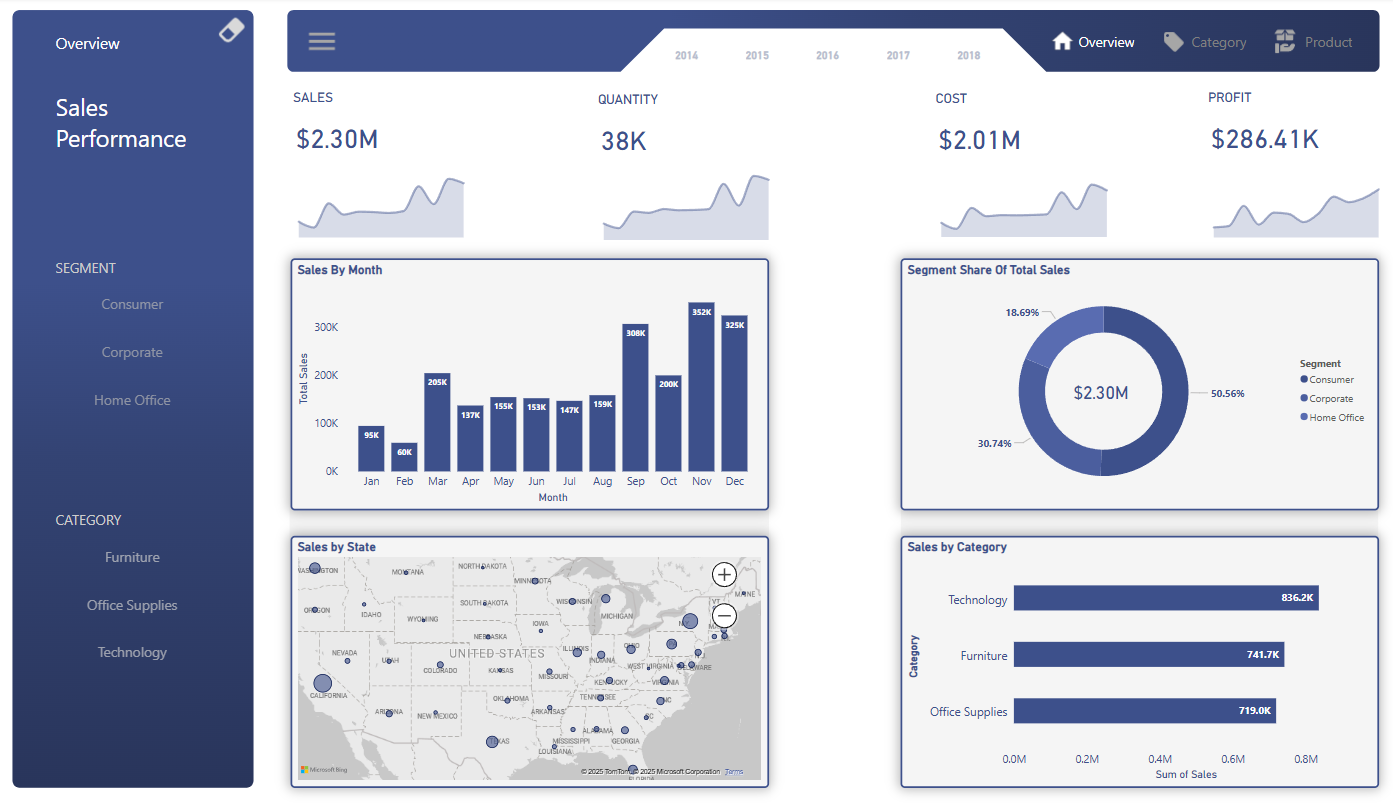

What the dashboard file says about the page in this screenshot:
{"tool":"powerbi","page":{"name":"Overview","canvas":[1900,1100],"ordinal":0},"visuals":[{"type":"shape","box":[1227.2,355.6,650.7,721.5],"z":0},{"type":"shape","box":[396.3,355.4,653.1,721.1],"z":1000},{"type":"cardVisual","title":"QUANTITY","fields":{"Data":["Sum(Order_Data.Quantity)"]},"box":[810.9,129,237.8,103],"z":2000},{"type":"cardVisual","title":"SALES","fields":{"Data":["Sum(Order_Data.Sales)"]},"box":[396.3,125.3,237.8,103.2],"z":3000},{"type":"listSlicer","title":"SEGMENT","fields":{"Values":["Order_Data.Segment"]},"box":[73.7,355.7,219.3,226.7],"z":4000},{"type":"listSlicer","title":"CATEGORY","fields":{"Values":["Order_Data.Category"]},"box":[73.7,698.6,219.3,224.9],"z":5000},{"type":"advancedSlicerVisual","fields":{"Values":["Order_Data.Ship Date.Variation.Date Hierarchy.Year"]},"box":[903.2,42.4,492.1,73.7],"z":6000},{"type":"clusteredColumnChart","title":"Sales By Month","fields":{"Y":["Sum(Order_Data.Sales)"],"Category":["Order_Data.Short_Month"]},"box":[398,355.4,651.4,343.5],"z":7000},{"type":"lineChart","fields":{"Y":["Sum(Order_Data.Sales)"],"Category":["Order_Data.Order Date.Variation.Date Hierarchy.Month"]},"box":[396.3,223.6,250.7,110.6],"z":8000},{"type":"lineChart","fields":{"Category":["Order_Data.Order Date.Variation.Date Hierarchy.Month"],"Y":["Sum(Order_Data.Quantity)"]},"box":[811,226.1,250.7,110.6],"z":9000},{"type":"cardVisual","title":"COST","fields":{"Data":["Order_Data.Cost"]},"box":[1270,128.3,238.3,103.3],"z":10000},{"type":"lineChart","fields":{"Category":["Order_Data.Order Date.Variation.Date Hierarchy.Month"],"Y":["Order_Data.Cost"]},"box":[1270,223.3,251.7,110],"z":11000},{"type":"cardVisual","title":"PROFIT","fields":{"Data":["Sum(Order_Data.Profit)"]},"box":[1640.4,126.6,237.8,103.2],"z":12000},{"type":"lineChart","fields":{"Category":["Order_Data.Order Date.Variation.Date Hierarchy.Month"],"Y":["Sum(Order_Data.Profit)"]},"box":[1640.4,223,250.7,110.6],"z":13000},{"type":"map","title":"Sales by State","fields":{"Category":["Order_Data.State"],"Size":["Sum(Order_Data.Sales)"]},"box":[398,733,651.4,343.5],"z":14000},{"type":"actionButton","box":[1426.4,19,136.4,83.6],"z":15000},{"type":"actionButton","box":[1579.6,19,136.4,83],"z":16000},{"type":"actionButton","box":[1730,19,136,83],"z":17000},{"type":"textbox","box":[73.8,122.5,201.2,103.8],"z":18000},{"type":"textbox","box":[73.8,42.5,110,42.5],"z":19000},{"type":"donutChart","title":"Segment Share Of Total Sales","fields":{"Category":["Order_Data.Segment"],"Y":["Sum(Order_Data.Sales)"]},"box":[1227.2,355.6,651,343.5],"z":20000},{"type":"barChart","title":"Sales by Category","fields":{"Y":["Sum(Order_Data.Sales)"],"Category":["Order_Data.Category"]},"box":[1227.2,733.6,651,343.5],"z":21000},{"type":"card","title":"SALES","fields":{"Values":["Sum(Order_Data.Sales)"]},"box":[1444.4,485.6,113.3,102.2],"z":22000},{"type":"actionButton","box":[412.5,27.5,55,66.2],"z":23000},{"type":"actionButton","box":[292.5,18.7,59.5,51],"z":24000}]}

Visuals, with their boxes in screenshot pixels (x1, y1, x2, y2), scaled from the page's 1900x1100 canvas onto the 1393x803 screenshot:
shape: x1=900 y1=260 x2=1377 y2=786
shape: x1=291 y1=259 x2=769 y2=786
"QUANTITY" cardVisual: x1=595 y1=94 x2=769 y2=169
"SALES" cardVisual: x1=291 y1=91 x2=465 y2=167
"SEGMENT" listSlicer: x1=54 y1=260 x2=215 y2=425
"CATEGORY" listSlicer: x1=54 y1=510 x2=215 y2=674
advancedSlicerVisual - Order_Data.Ship Date.Variation.Date Hierarchy.Year: x1=662 y1=31 x2=1023 y2=85
"Sales By Month" clusteredColumnChart: x1=292 y1=259 x2=769 y2=510
lineChart - Sum(Order_Data.Sales) x Order_Data.Order Date.Variation.Date Hierarchy.Month: x1=291 y1=163 x2=474 y2=244
lineChart - Order_Data.Order Date.Variation.Date Hierarchy.Month x Sum(Order_Data.Quantity): x1=595 y1=165 x2=778 y2=246
"COST" cardVisual: x1=931 y1=94 x2=1106 y2=169
lineChart - Order_Data.Order Date.Variation.Date Hierarchy.Month x Order_Data.Cost: x1=931 y1=163 x2=1116 y2=243
"PROFIT" cardVisual: x1=1203 y1=92 x2=1377 y2=168
lineChart - Order_Data.Order Date.Variation.Date Hierarchy.Month x Sum(Order_Data.Profit): x1=1203 y1=163 x2=1386 y2=244
"Sales by State" map: x1=292 y1=535 x2=769 y2=786
actionButton: x1=1046 y1=14 x2=1146 y2=75
actionButton: x1=1158 y1=14 x2=1258 y2=74
actionButton: x1=1268 y1=14 x2=1368 y2=74
textbox: x1=54 y1=89 x2=202 y2=165
textbox: x1=54 y1=31 x2=135 y2=62
"Segment Share Of Total Sales" donutChart: x1=900 y1=260 x2=1377 y2=510
"Sales by Category" barChart: x1=900 y1=536 x2=1377 y2=786
"SALES" card: x1=1059 y1=354 x2=1142 y2=429
actionButton: x1=302 y1=20 x2=343 y2=68
actionButton: x1=214 y1=14 x2=258 y2=51
